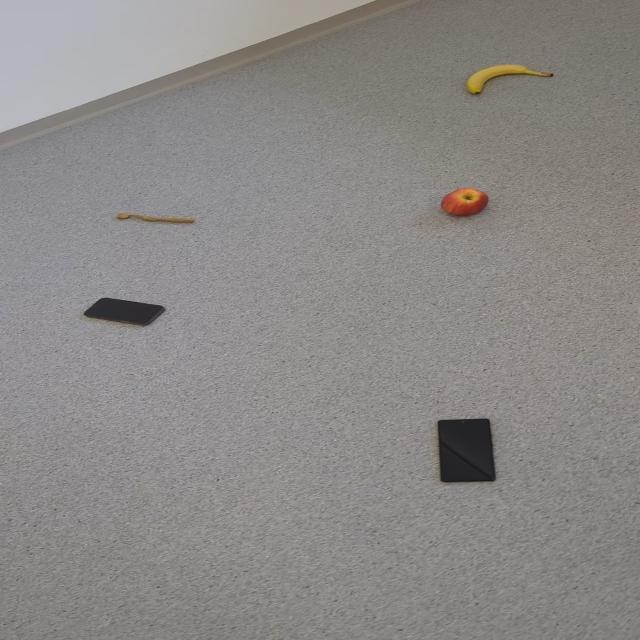apple: (440, 187, 488, 216)
banana: (464, 63, 553, 95)
phone: (436, 418, 496, 482), (82, 297, 166, 326)
